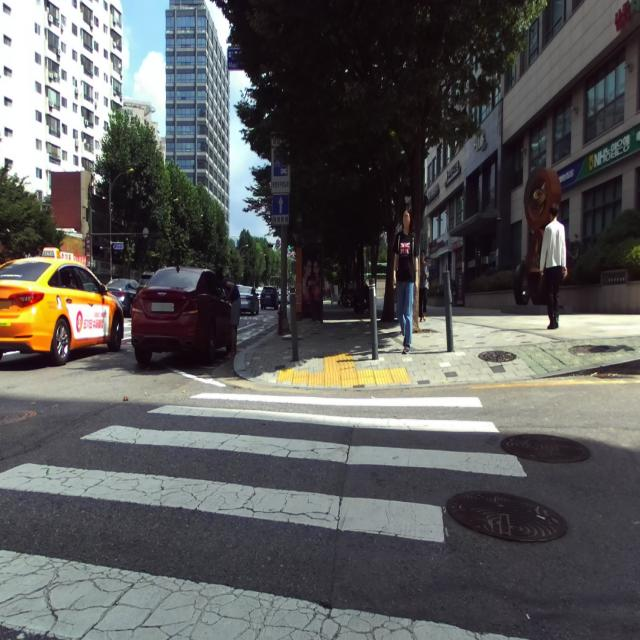횡단보도: (0, 392, 527, 639)
